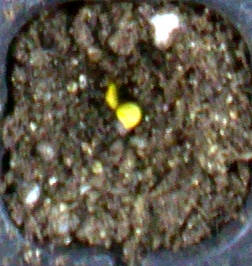chilli seed: (117, 103, 141, 129), (105, 84, 117, 108)
